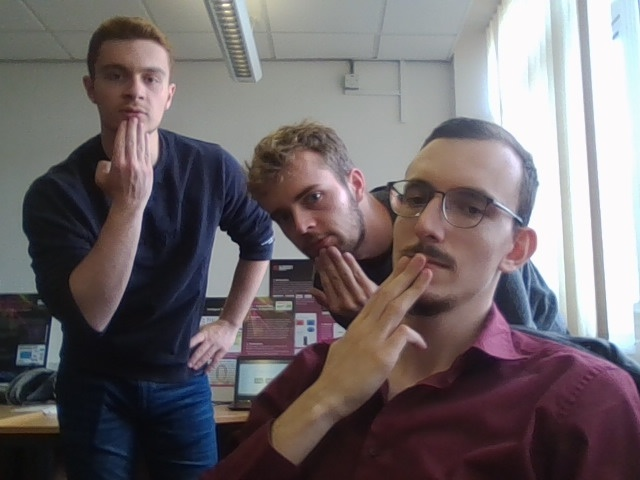livelong: (317, 253, 436, 395), (306, 246, 382, 323), (93, 115, 156, 200)
